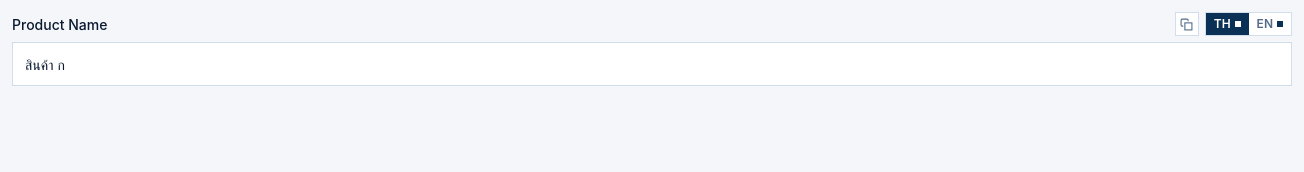
MultiLangInput component › renders with label and switches between TH and EN tabs
The width and height of the screenshot is (1304, 172).
expect the field showing "สินค้า ก" is shown: met, box [12,42,1292,86]
Click the button "EN": x=1270, y=24 [1249,13,1291,35]
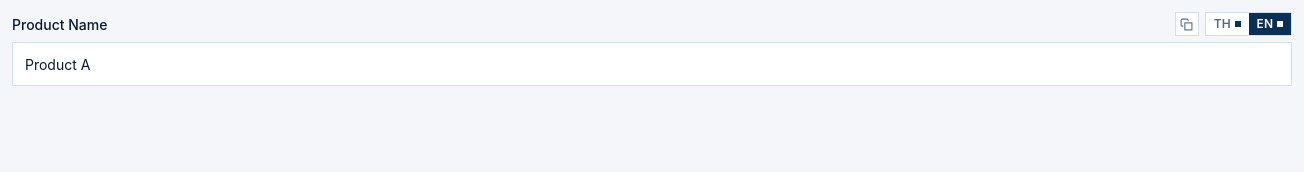
expect the field showing "Product A" is shown: met, box [12,42,1292,86]
